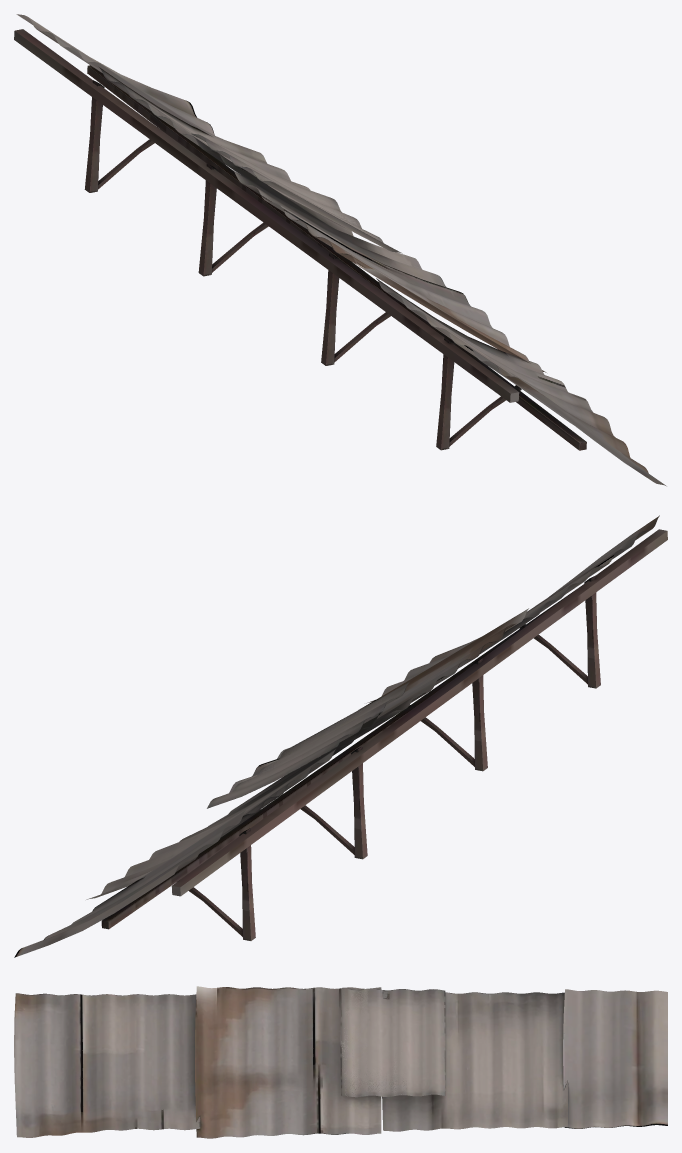
3 renders of one model, top to bottom at view 1: azimuth 30°, elevation 25°; view 2: azimuth 150°, elevation 25°; view 3: azimuth 270°, elevation 25°, orthographic. The views are drawn at different scales.
Parts seen in each view (by area): view 1: body0_model0_lod0_mesh0; view 2: body0_model0_lod0_mesh0; view 3: body0_model0_lod0_mesh0.
Boxes of the visible parts, bbox=[...] form: body0_model0_lod0_mesh0: bbox=[14, 14, 666, 486]; body0_model0_lod0_mesh0: bbox=[14, 515, 667, 957]; body0_model0_lod0_mesh0: bbox=[14, 986, 667, 1138].
Size of the model in its own units: 55.49 by 45.52 by 257.
1 material, 1 textured.
